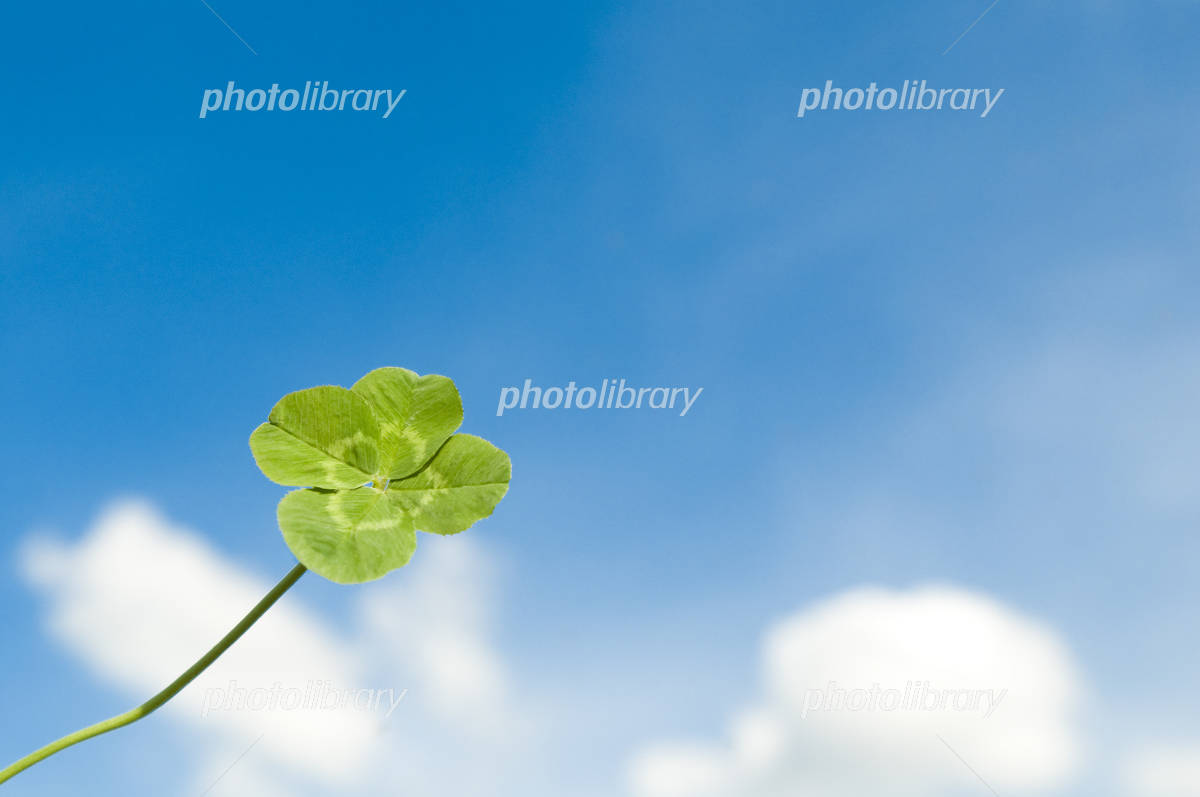daikon: (244, 353, 530, 610)
